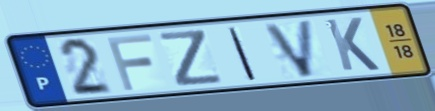2: (57, 36, 116, 98)
F: (104, 31, 156, 92)
I: (226, 26, 260, 82)
K: (322, 15, 383, 73)
V: (260, 17, 318, 80)
Z: (156, 28, 226, 89)
